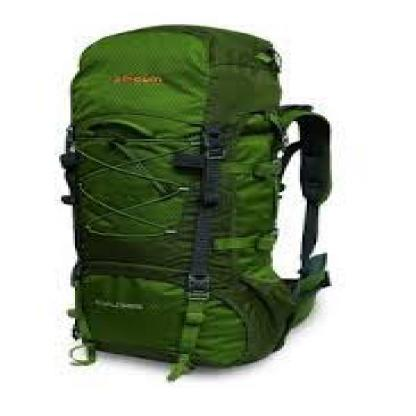morral: (36, 20, 389, 384)
